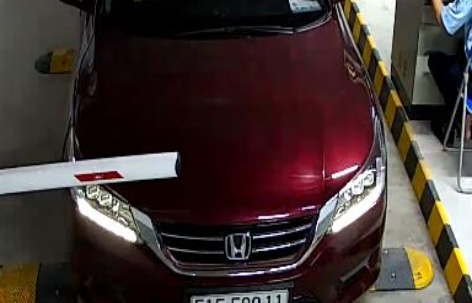plate: (188, 290, 295, 303)
